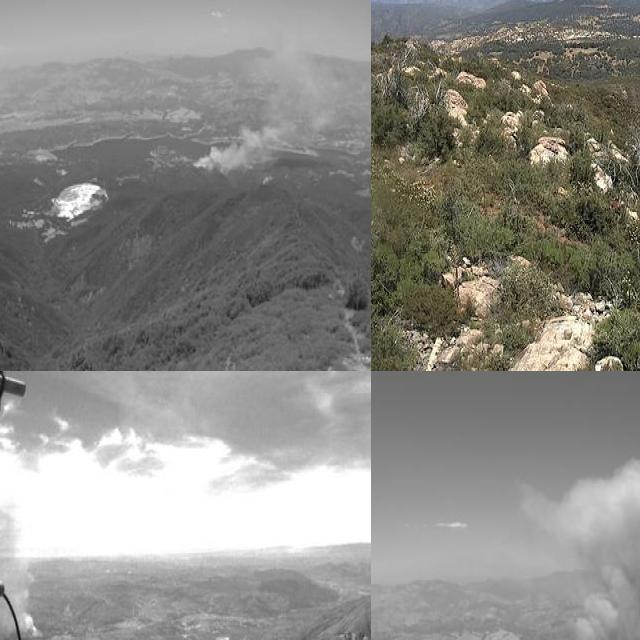smoke: (508, 447, 640, 640), (182, 39, 351, 181), (0, 505, 41, 639)
